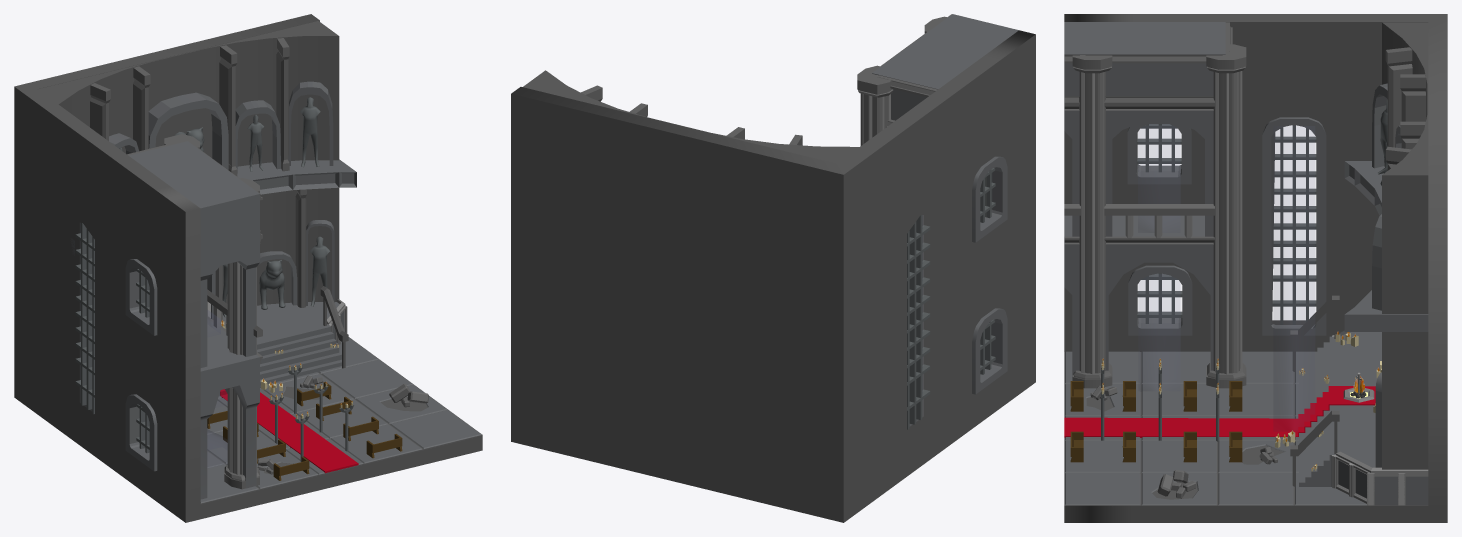
Rendered from maya2sketchfab.fbx.
3 views of the same model, side by side, from view 1: azimuth 30°, elevation 25°; view 2: azimuth 150°, elevation 25°; view 3: azimuth 270°, elevation 25° (orthographic). The views are drawn at different scales.
Parts seen in each view (by area): view 1: pCube1, pPlane4, pCube89, pPlane3, pCube81, pCube165, pCube194, pCube64, pCube72, pPlane5, pCylinder55, pCube184 (+22 smaller); view 2: pCube1, pCube72, pCube184, pPlane4, pCube191, pCube192, pCylinder56, pCube89, pCylinder35, pCube165, pCube124; view 3: pCube1, pCube72, pCube81, pPlane4, pCylinder56, pCylinder55, pPlane3, pCube190, pCube65, pPlane1, pCube184, pCube165 (+38 smaller).
Boxes of the visible parts, box(x1,y1,x2,y2) form: pCube1: box(14, 14, 482, 522); pPlane4: box(38, 21, 339, 166); pCube89: box(187, 184, 259, 367); pPlane3: box(222, 187, 339, 305); pCube81: box(219, 302, 344, 395); pCube165: box(90, 38, 289, 176); pCube194: box(109, 81, 333, 173); pCube64: box(200, 352, 259, 499); pCube72: box(129, 141, 246, 198); pPlane5: box(70, 159, 356, 255); pCylinder55: box(227, 261, 256, 474); pCube184: box(75, 223, 94, 413); pCube1: box(511, 30, 1035, 522); pCube72: box(872, 25, 1003, 120); pCube184: box(907, 215, 930, 429); pPlane4: box(523, 70, 858, 163); pCube191: box(972, 156, 1007, 242); pCube192: box(972, 308, 1007, 394); pCylinder56: box(860, 93, 890, 145); pCube89: box(938, 14, 1018, 40); pCylinder35: box(857, 65, 893, 97); pCube165: box(581, 85, 802, 145); pCube124: box(872, 14, 951, 97); pCube1: box(1064, 14, 1447, 522); pCube72: box(1093, 22, 1225, 236); pCube81: box(1299, 332, 1428, 505); pPlane4: box(1382, 22, 1428, 313); pCylinder56: box(1213, 71, 1242, 374); pCylinder55: box(1079, 71, 1105, 374); pPlane3: box(1382, 332, 1428, 469); pCube190: box(1262, 117, 1326, 335); pCube65: box(1106, 215, 1213, 370); pPlane1: box(1064, 386, 1375, 437); pCube184: box(1272, 125, 1316, 324); pCube165: box(1385, 47, 1425, 170).
Bounding box in the file's own units: 50.54 × 50 × 50.
Materials: 15 (1 with a texture image).
